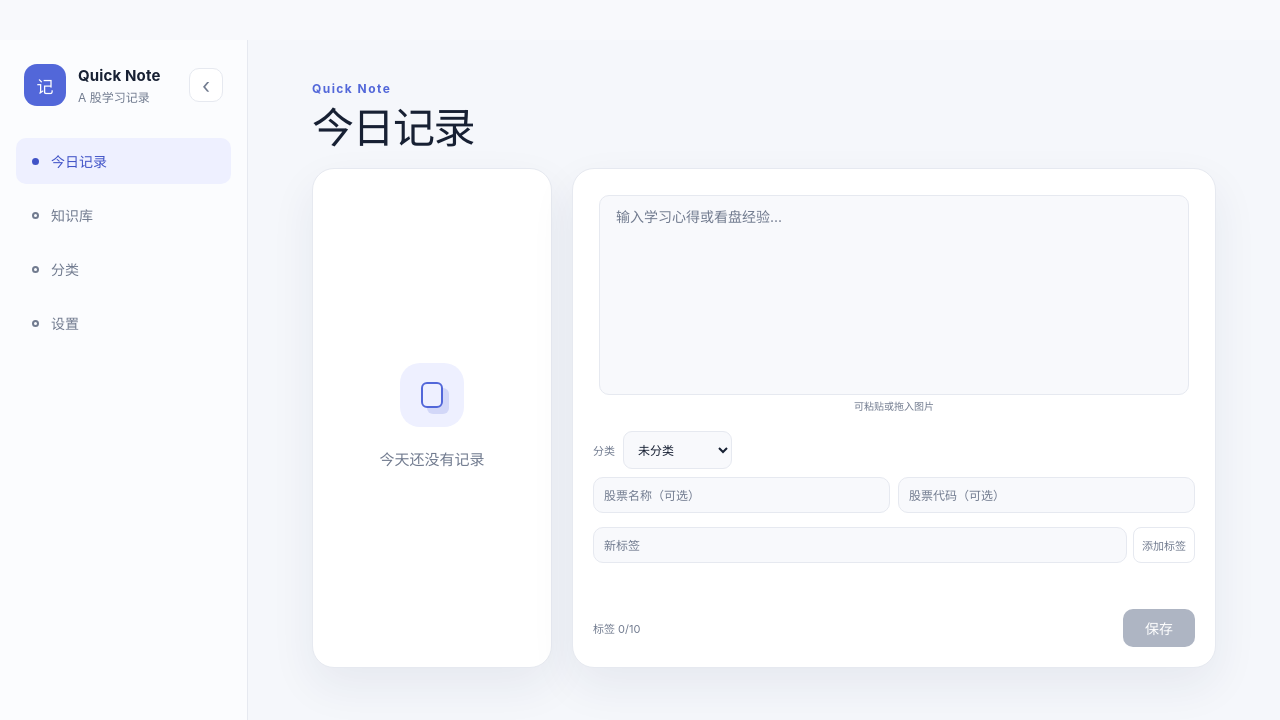
main window shell › collapses and expands the sidebar
Click the button named "收起侧边栏" at coordinates (206, 85), box [189,68,223,102]
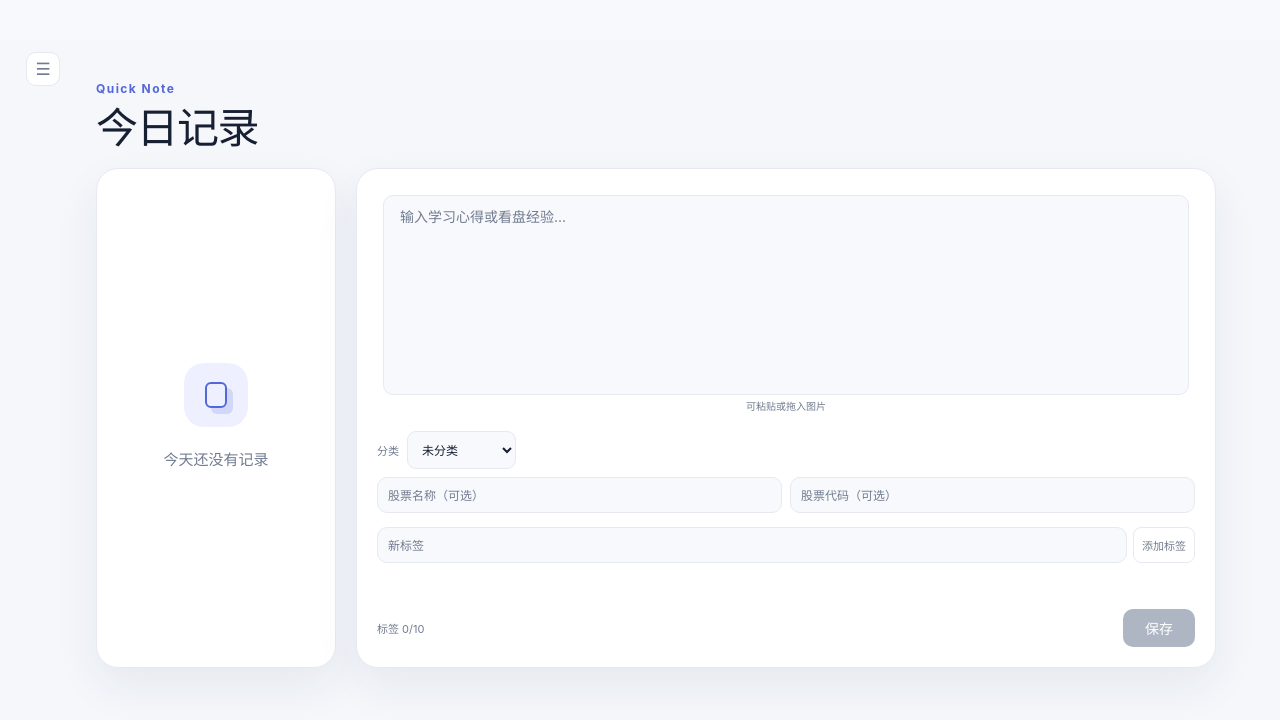
Check: the element with test id "app-shell" has attribute data-sidebar-collapsed="true"
Click the button named "展开侧边栏" at coordinates (43, 69), box [26,52,60,86]
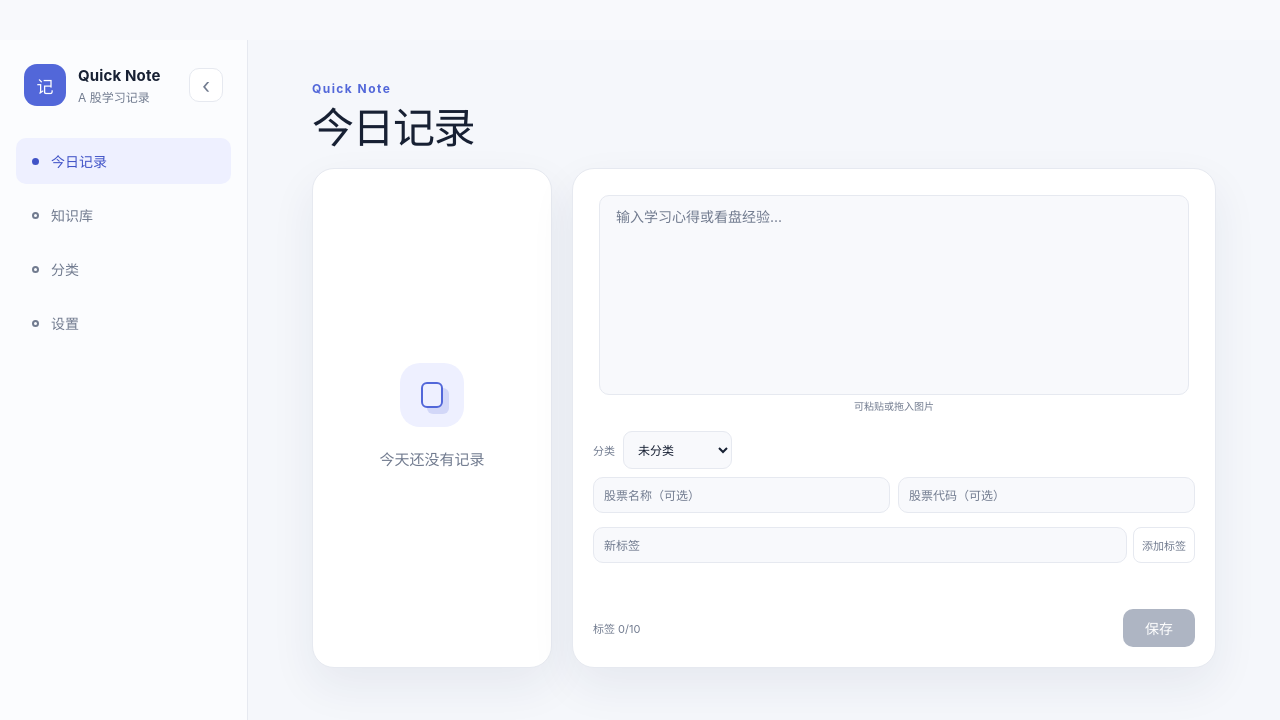
Check: the button "今日记录" is shown, box [16,138,231,184]
